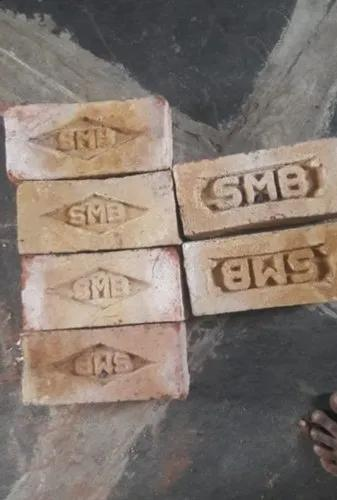brick: (172, 138, 335, 239), (5, 93, 169, 180), (15, 171, 176, 258), (23, 322, 184, 408), (25, 247, 184, 332), (188, 226, 335, 316)
